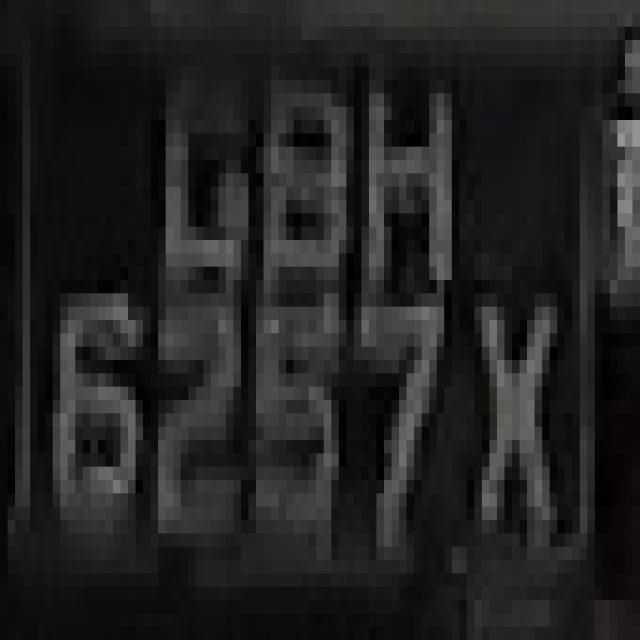2: (120, 280, 241, 560)
5: (218, 267, 346, 573)
6: (38, 280, 143, 560)
7: (301, 240, 444, 587)
B: (248, 40, 362, 307)
G: (136, 53, 264, 307)
H: (354, 53, 459, 320)
X: (436, 253, 580, 560)
